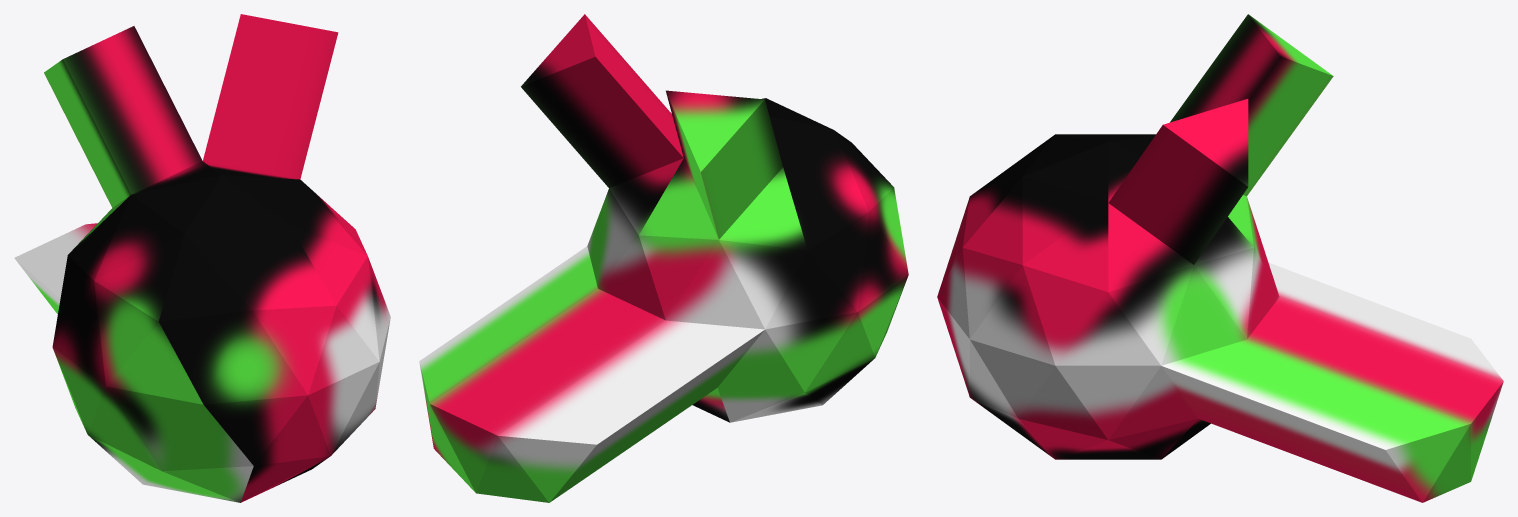
File: poop.dae
3 renders of one model, left to right at view 1: azimuth 30°, elevation 25°; view 2: azimuth 150°, elevation 25°; view 3: azimuth 270°, elevation 25°, orthographic. The views are drawn at different scales.
Visible parts, largest first — view 1: Icosphere; view 2: Icosphere; view 3: Icosphere.
Part boxes in pixels (left/top/right/bottom): Icosphere: left=14, top=14, right=390, bottom=502; Icosphere: left=419, top=14, right=908, bottom=502; Icosphere: left=937, top=14, right=1503, bottom=502.
Size of the model in its own units: 9.32 by 13.26 by 10.25.
